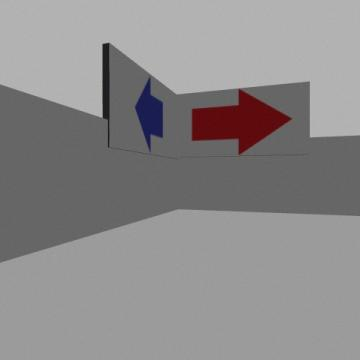blue_left: (135, 77, 163, 152)
red_right: (192, 89, 291, 154)
